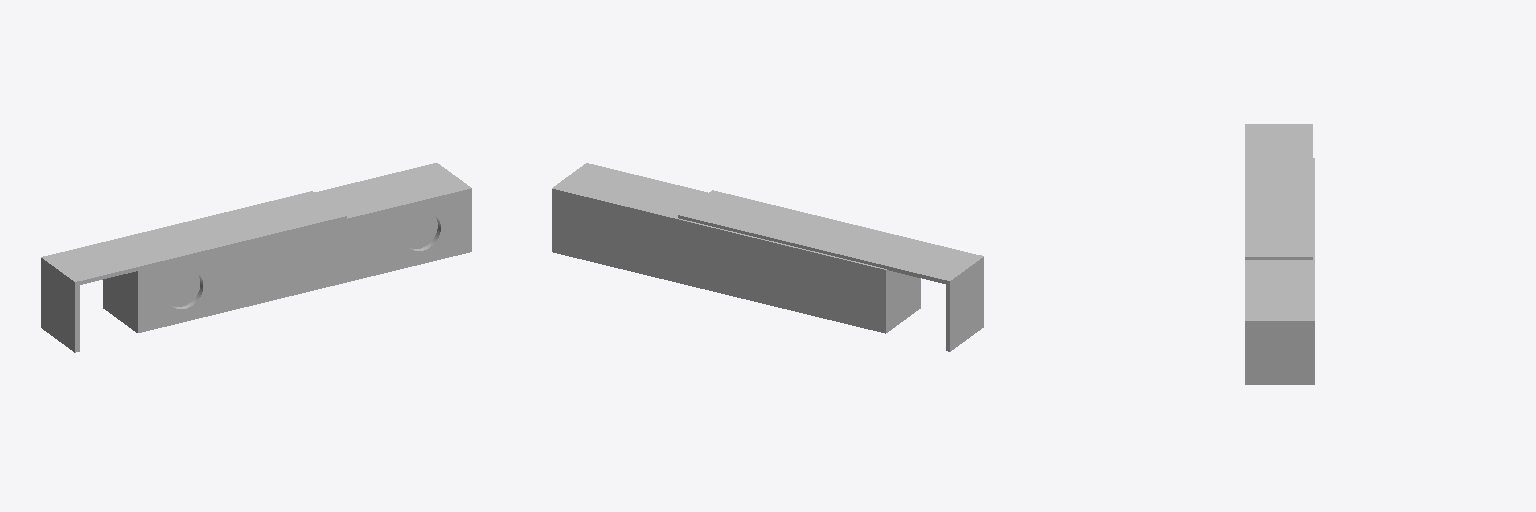
Rendered from Gimbalpart_pitch_off.obj.
The picture shows the model from 3 angles: view 1: azimuth 30°, elevation 25°; view 2: azimuth 150°, elevation 25°; view 3: azimuth 270°, elevation 25°; orthographic projection.
Visible parts, largest first — view 1: Object.3, Object.2, Object.1; view 2: Object.3, Object.2, Object.1; view 3: Object.2, Object.3.
Part boxes in pixels (x1,y1,x2,y2): Object.3: (103, 163, 471, 332); Object.2: (46, 191, 346, 284); Object.1: (41, 256, 79, 352); Object.3: (552, 163, 920, 333); Object.2: (678, 190, 978, 283); Object.1: (946, 255, 983, 351); Object.2: (1245, 126, 1312, 259); Object.3: (1245, 158, 1314, 384).
Size of the model in its own units: 203 by 34.44 by 31.25.